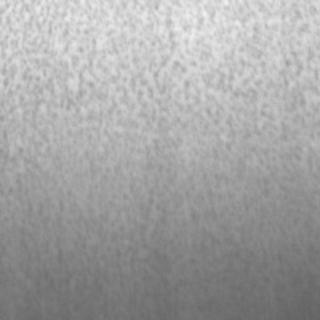pitted_surface: (3, 0, 315, 184)
